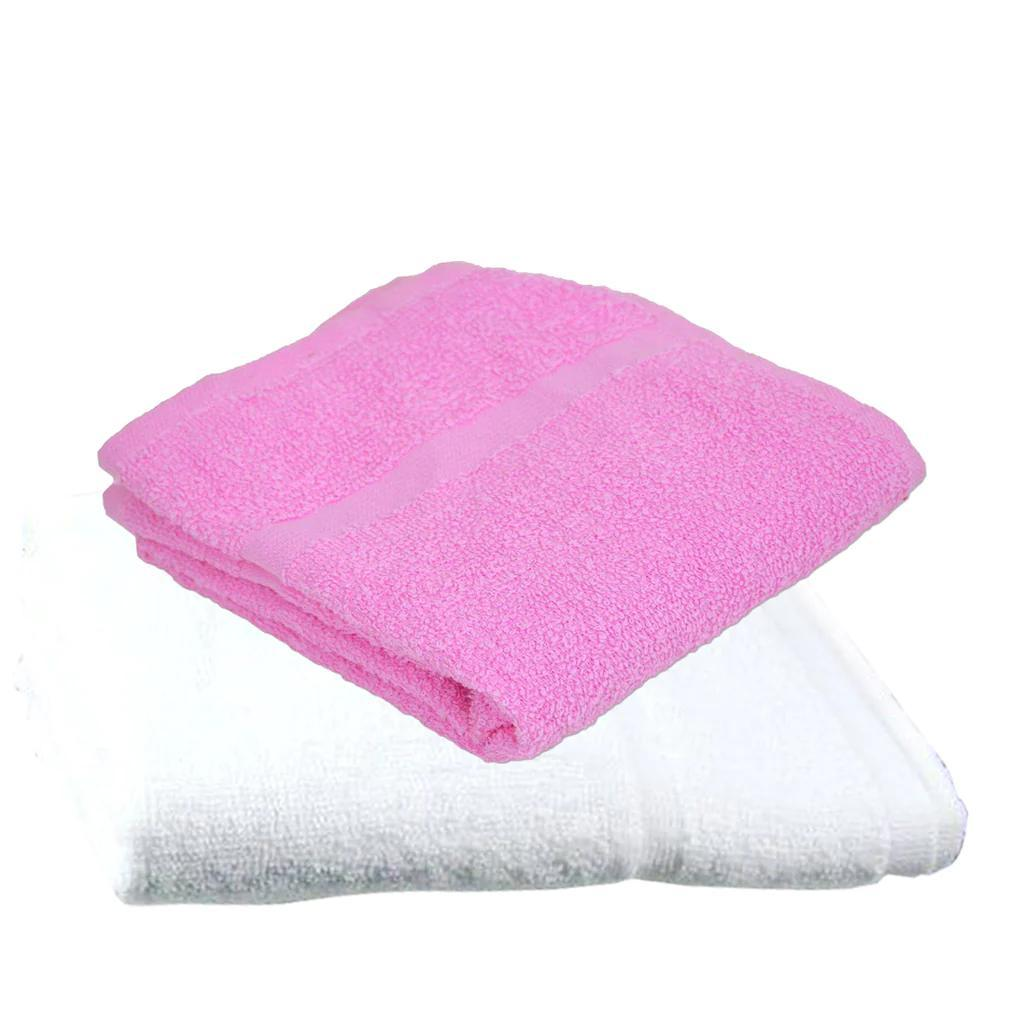towel: (78, 240, 945, 760)
